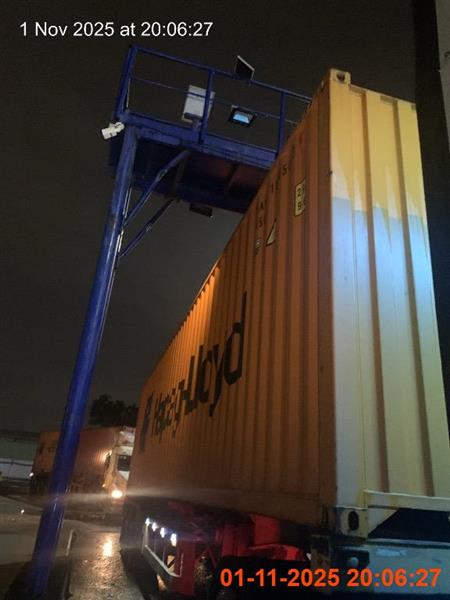broken: (117, 67, 449, 598)
